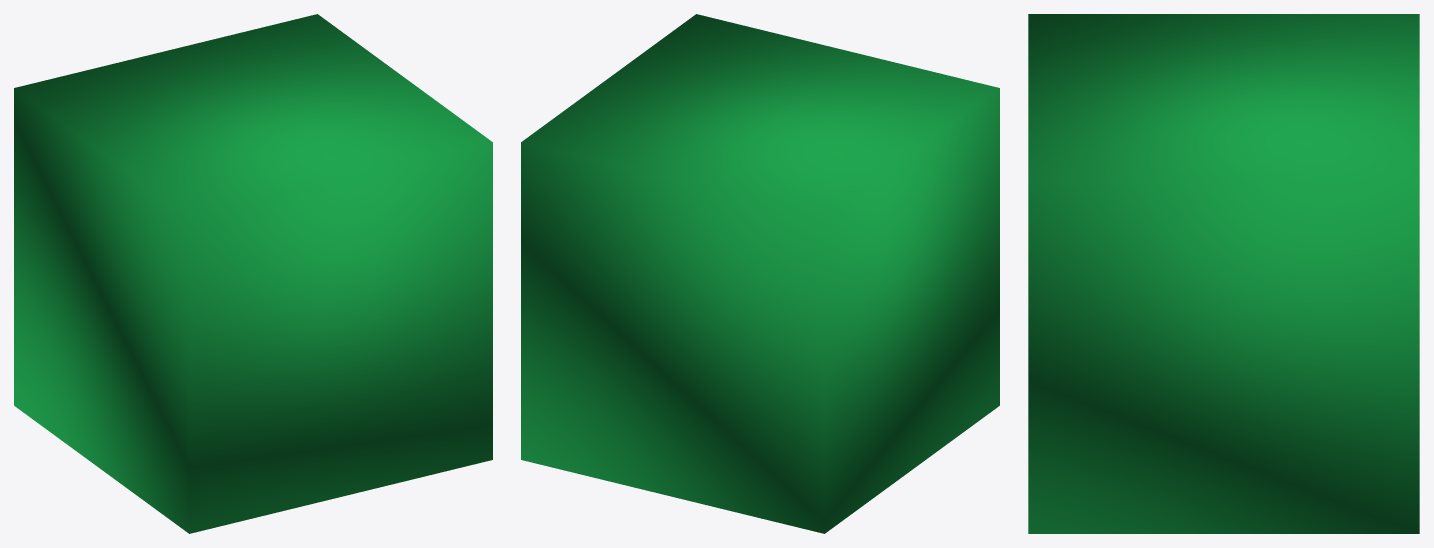
Rendered from ps2_jrpg_royal_palace_ornate_column.obj.
3 renders of one model, left to right at view 1: azimuth 30°, elevation 25°; view 2: azimuth 150°, elevation 25°; view 3: azimuth 270°, elevation 25°, orthographic. The views are drawn at different scales.
Size of the model in its own units: 1 by 1 by 1.
